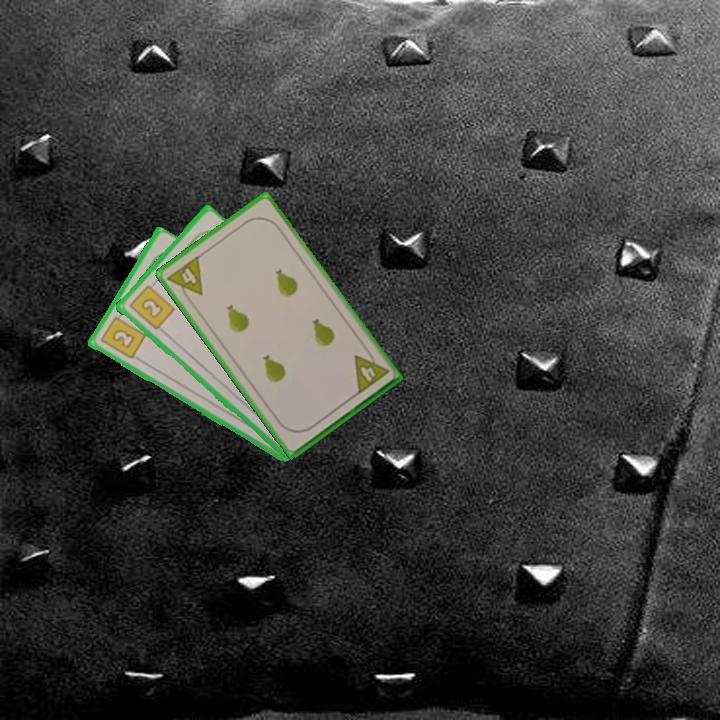2b: (125, 278, 177, 333), (97, 308, 148, 362)
4p: (163, 252, 206, 306), (350, 345, 392, 397)
